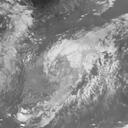cyclone: (39, 40, 102, 95)
